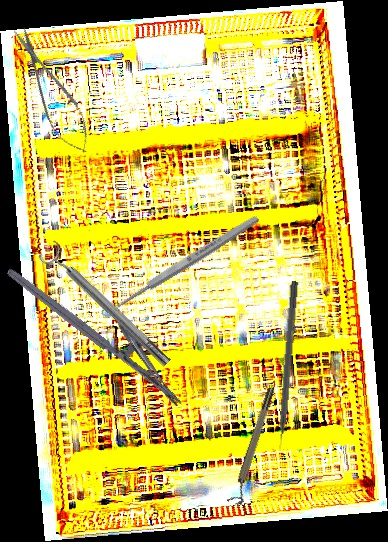Fixation Ring: (36, 237, 177, 375), (226, 386, 282, 507)
Micro Scissor: (2, 20, 101, 161)
Needle Holder: (5, 243, 202, 410)
Pusher: (273, 280, 299, 462)
Surgical Spoon: (99, 212, 261, 321)
